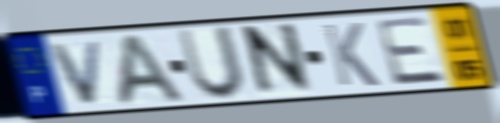A: (114, 31, 189, 109)
E: (372, 14, 450, 88)
K: (319, 21, 383, 89)
N: (243, 20, 315, 101)
U: (174, 24, 249, 103)
V: (48, 37, 106, 108)
